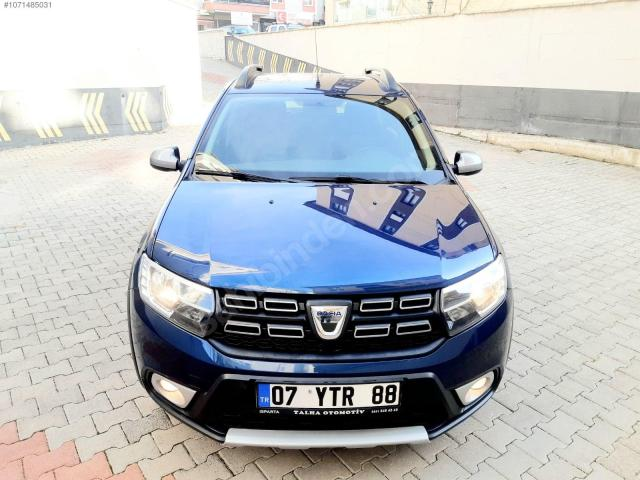plaka: (256, 382, 400, 413)
